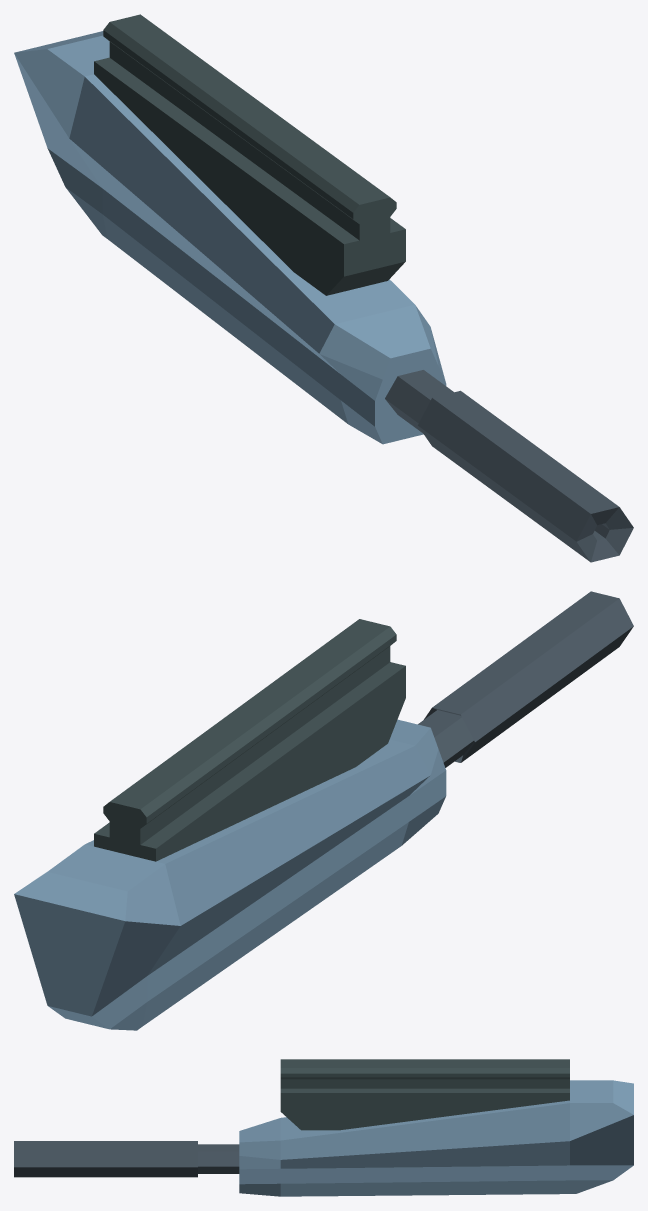
File: chaingun5.gltf
3 renders of one model, top to bottom at view 1: azimuth 30°, elevation 25°; view 2: azimuth 150°, elevation 25°; view 3: azimuth 270°, elevation 25°, orthographic. The views are drawn at different scales.
Visible parts, largest first — view 1: body, rail, barrel; view 2: body, rail, barrel; view 3: body, rail, barrel.
Boxes of the visible parts, x1,y1,x2,y2 form: body: [14, 31, 446, 444]; rail: [94, 14, 405, 295]; barrel: [385, 370, 633, 562]; body: [14, 719, 446, 1030]; rail: [94, 619, 405, 861]; barrel: [418, 591, 633, 767]; body: [239, 1080, 633, 1196]; rail: [280, 1059, 569, 1130]; barrel: [14, 1141, 239, 1177].
Size of the model in its own units: 0.225 by 0.4187 by 1.88.
3 materials, 3 textured.
